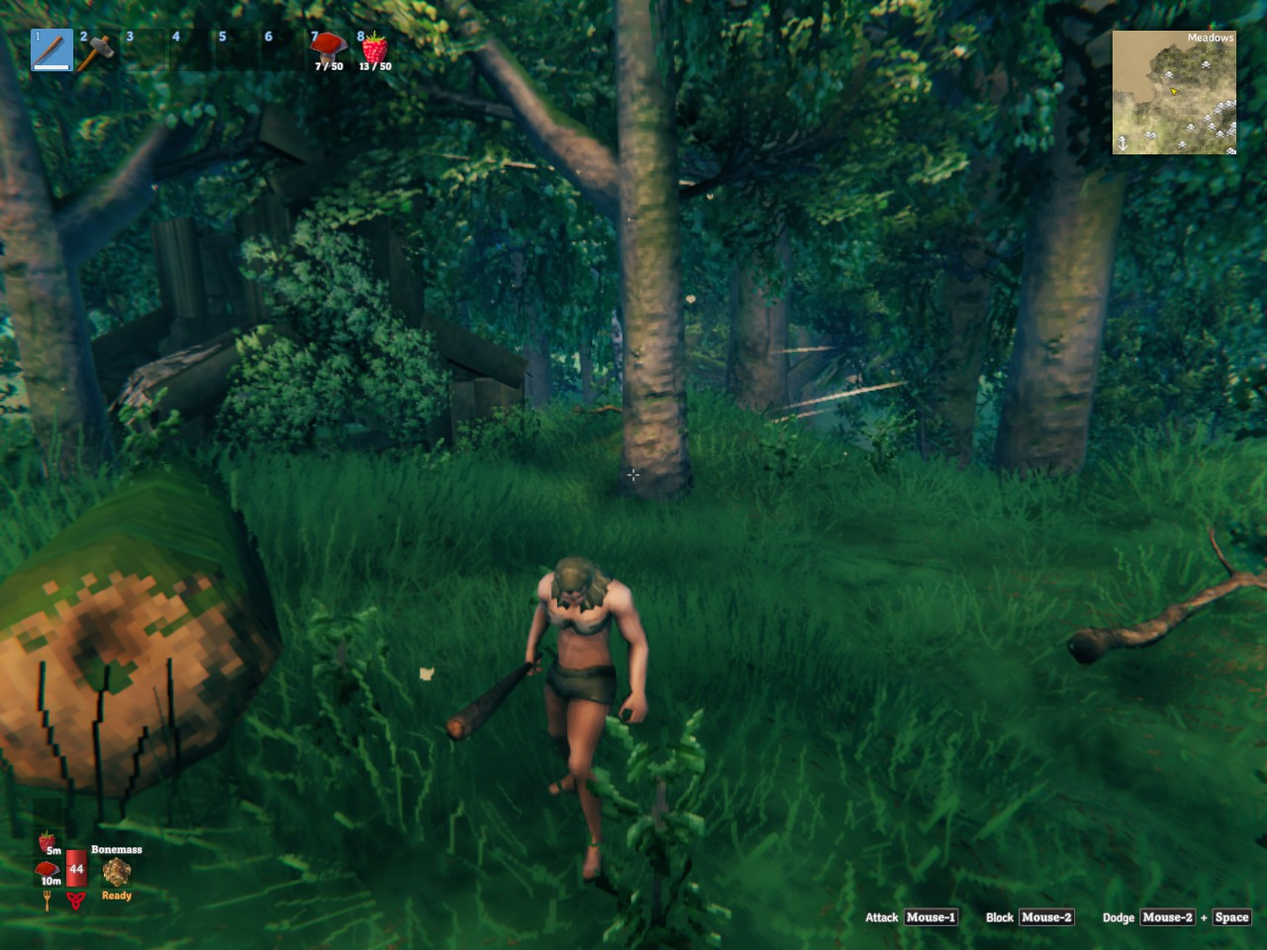Branch: (1069, 526, 1266, 664), (574, 405, 622, 413)
Food Indicator: (36, 797, 63, 891)
Health Bar: (63, 820, 90, 891)
Hotbar: (24, 21, 406, 80)
House: (93, 104, 525, 482)
